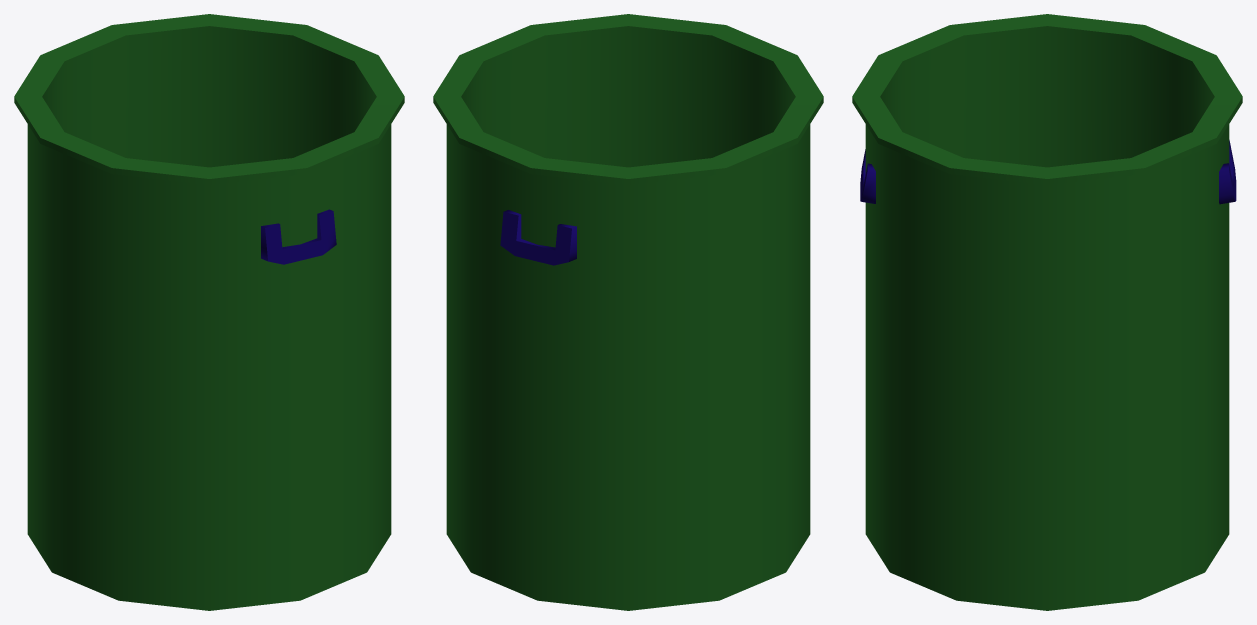
Rendered from ThrashCan.fbx.
The picture shows the model from 3 angles, left to right: view 1: azimuth 30°, elevation 25°; view 2: azimuth 150°, elevation 25°; view 3: azimuth 270°, elevation 25°; orthographic projection.
Parts seen in each view (by area): view 1: Trashcan.001; view 2: Trashcan.001; view 3: Trashcan.001.
Boxes of the visible parts, x1=… form: Trashcan.001: x1=14, y1=14, x2=404, y2=610; Trashcan.001: x1=433, y1=14, x2=823, y2=610; Trashcan.001: x1=852, y1=14, x2=1242, y2=610.
Size of the model in its own units: 215 by 265 by 215.
